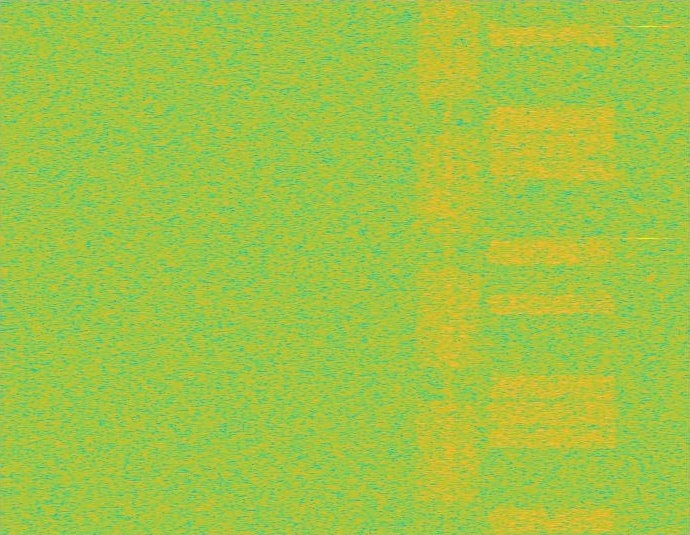5G: (414, 0, 483, 534)
DSSS: (444, 0, 453, 534)
LTE: (483, 0, 621, 534)
Radar: (641, 0, 655, 534)
